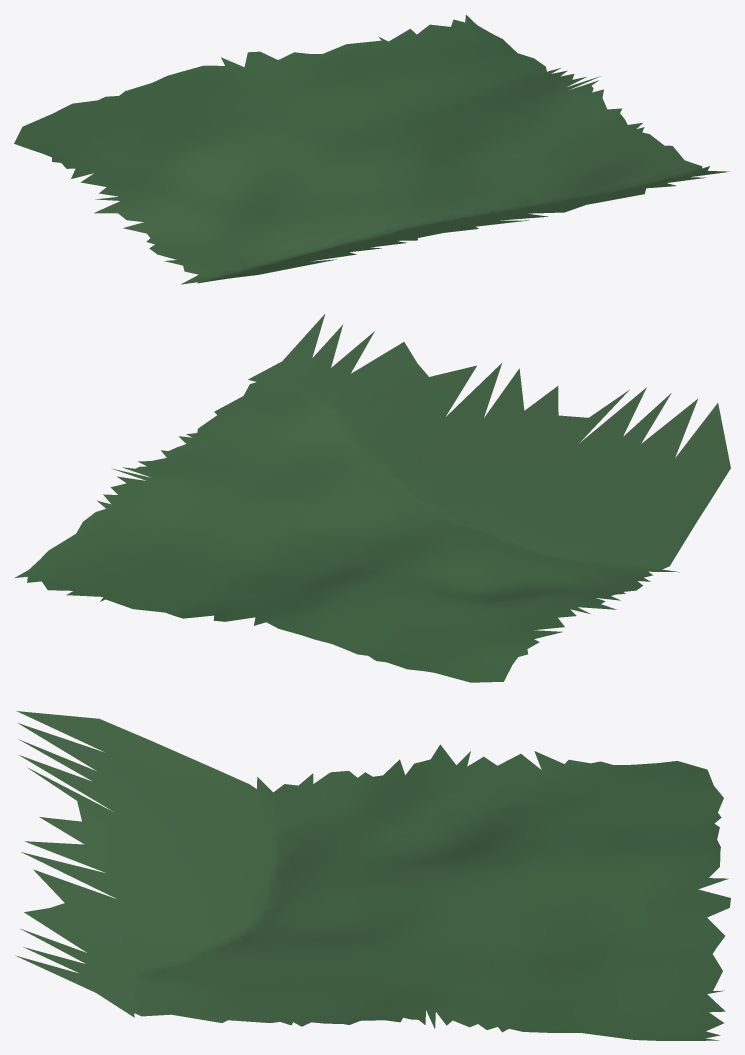
File: payo_land_xm1_y9.glb
3 views of the same model, one above another, from view 1: azimuth 30°, elevation 25°; view 2: azimuth 150°, elevation 25°; view 3: azimuth 270°, elevation 25° (orthographic). The views are drawn at different scales.
Visible parts, largest first — view 1: payo_land_xm1_y9; view 2: payo_land_xm1_y9; view 3: payo_land_xm1_y9.
Boxes of the visible parts, bbox=[...] form: payo_land_xm1_y9: bbox=[14, 15, 729, 284]; payo_land_xm1_y9: bbox=[15, 314, 730, 682]; payo_land_xm1_y9: bbox=[15, 711, 730, 1040].
Size of the model in its own units: 282 by 47.41 by 280.
